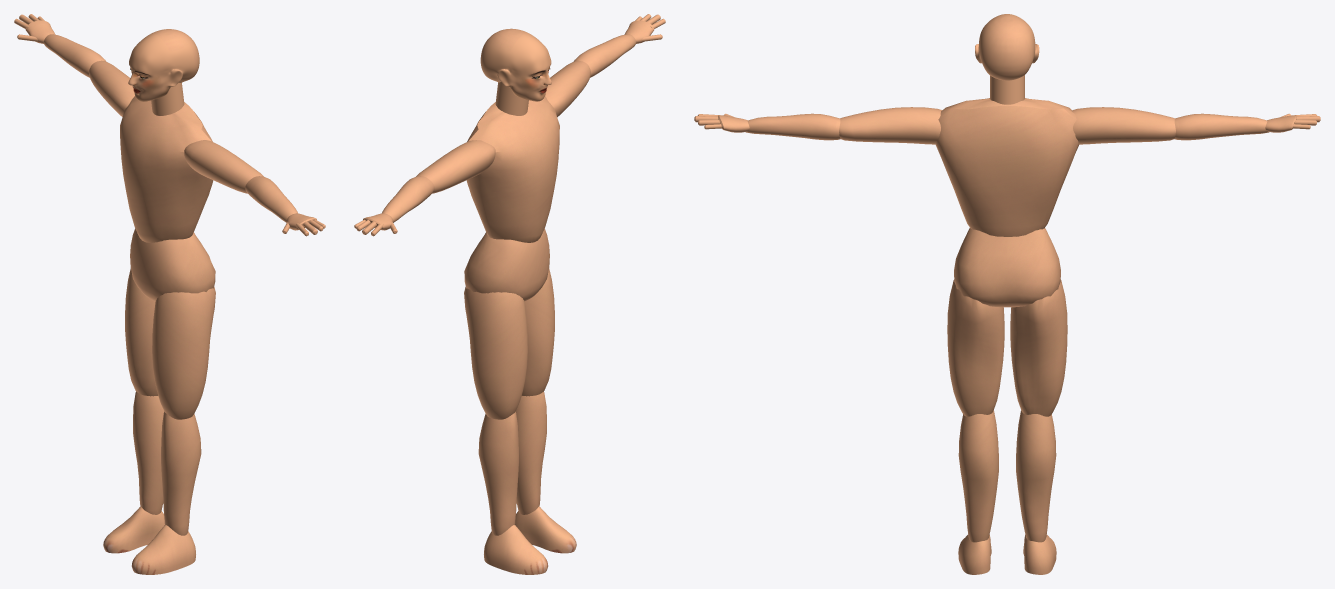
Rendered from humanbaseTextureTest.fbx.
The picture shows the model from 3 angles, left to right: view 1: azimuth 30°, elevation 25°; view 2: azimuth 150°, elevation 25°; view 3: azimuth 270°, elevation 25°; orthographic projection. The views are drawn at different scales.
Visible parts, largest first — view 1: Sphere.008, Sphere.005, Sphere.009, Sphere.007, Sphere.019, Cylinder.001; view 2: Sphere.008, Sphere.005, Sphere.009, Sphere.007, Sphere.019, Cylinder.001; view 3: Sphere.008, Sphere.005, Sphere.009, Sphere.007, Sphere.019, Cylinder.001.
Part boxes in pixels (<box>): Sphere.008: <box>103,268,215,574</box>; Sphere.005: <box>120,96,213,242</box>; Sphere.009: <box>14,14,325,236</box>; Sphere.007: <box>130,228,215,301</box>; Sphere.019: <box>128,29,199,101</box>; Cylinder.001: <box>151,82,184,115</box>; Sphere.008: <box>464,268,576,574</box>; Sphere.005: <box>466,96,559,242</box>; Sphere.009: <box>354,14,665,236</box>; Sphere.007: <box>464,228,549,301</box>; Sphere.019: <box>480,28,551,101</box>; Cylinder.001: <box>495,82,528,115</box>; Sphere.008: <box>947,279,1067,574</box>; Sphere.005: <box>935,98,1079,236</box>; Sphere.009: <box>694,107,1320,144</box>; Sphere.007: <box>954,228,1060,307</box>; Sphere.019: <box>975,14,1039,80</box>; Cylinder.001: <box>990,75,1024,104</box>.
Bounding box in the file's own units: 64.57 × 387 × 399.
